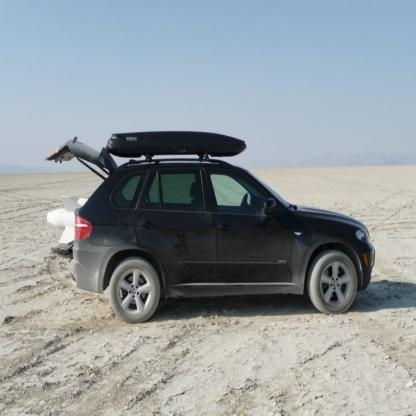Car: (44, 132, 375, 324)
